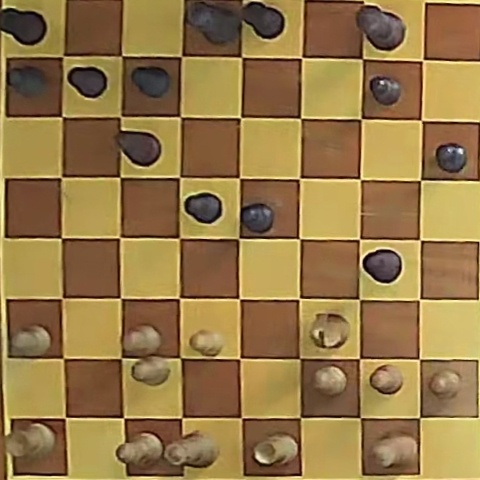black-bishop: (363, 249, 402, 284)
black-king: (356, 6, 404, 51)
black-knight: (116, 131, 161, 166)
black-pawn: (67, 66, 107, 99), (7, 66, 48, 98), (131, 66, 171, 98), (184, 192, 222, 224), (241, 203, 274, 233), (370, 76, 402, 106), (436, 143, 467, 173)
black-queen: (186, 2, 241, 45)
black-rook: (0, 7, 47, 46), (241, 2, 284, 40)
white-bishop: (117, 432, 165, 467)
white-king: (372, 434, 418, 469)
white-knight: (310, 313, 349, 347)
white-pawn: (10, 325, 51, 356), (123, 325, 161, 355), (131, 356, 170, 385), (313, 366, 347, 396), (428, 369, 462, 399), (370, 365, 403, 394), (190, 329, 224, 356)
white-queen: (164, 431, 219, 467)
white-rook: (6, 422, 56, 461), (253, 432, 297, 466)
